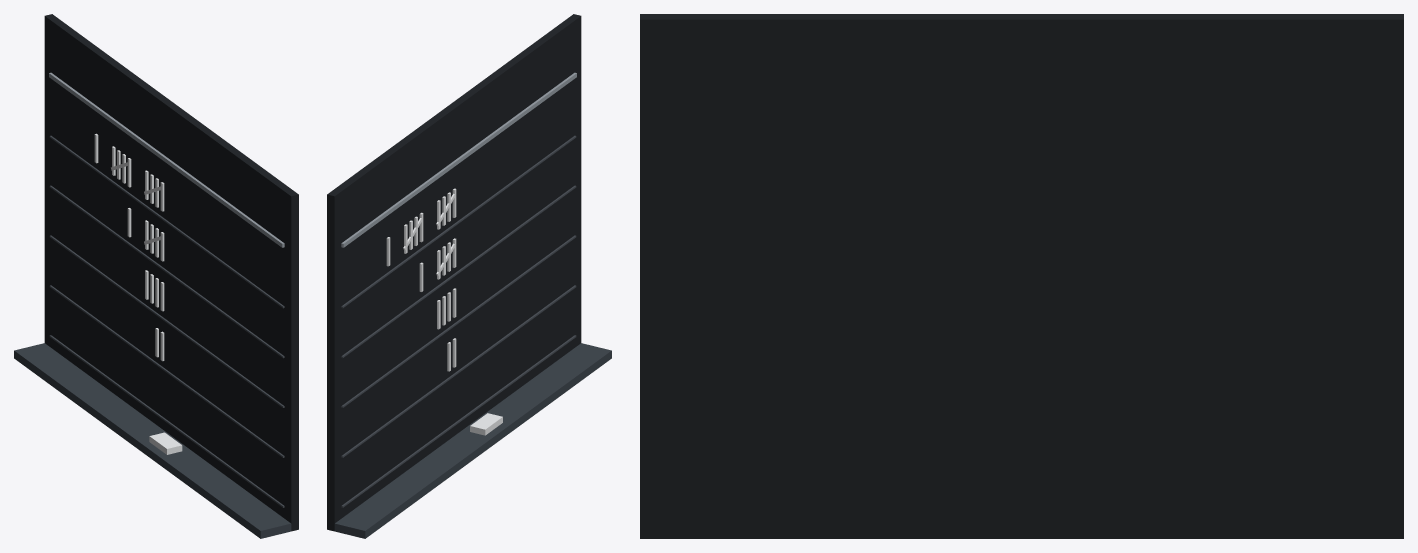
The model's file is egg_carrier_scoreboard.fbx.
3 renders of one model, left to right at view 1: azimuth 30°, elevation 25°; view 2: azimuth 150°, elevation 25°; view 3: azimuth 270°, elevation 25°, orthographic. The views are drawn at different scales.
Parts seen in each view (by area): view 1: egg_carrier_scoreboard; view 2: egg_carrier_scoreboard; view 3: egg_carrier_scoreboard.
Boxes of the visible parts, left/top/right/bottom form: egg_carrier_scoreboard: left=14, top=14, right=298, bottom=538; egg_carrier_scoreboard: left=327, top=14, right=611, bottom=538; egg_carrier_scoreboard: left=640, top=14, right=1403, bottom=538.
Size of the model in its own units: 100 by 840 by 1120.
